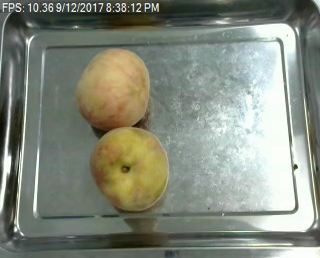Peach: (91, 126, 169, 210), (76, 46, 151, 132)
